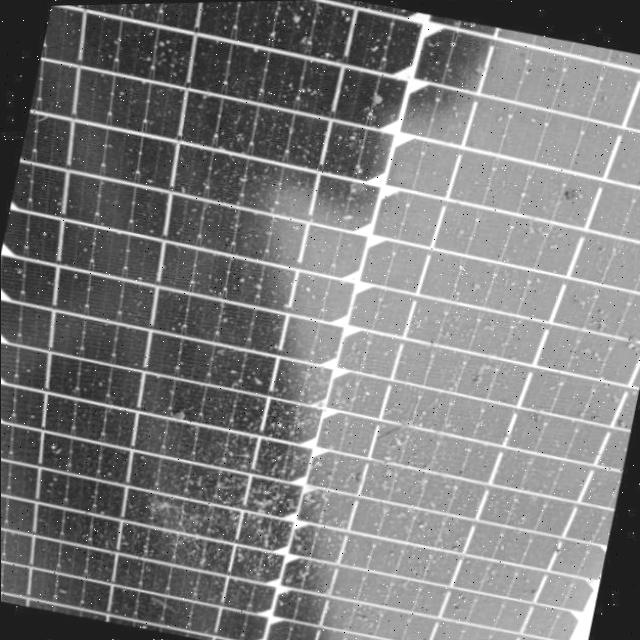Surface Contaminant: (0, 0, 640, 471)
